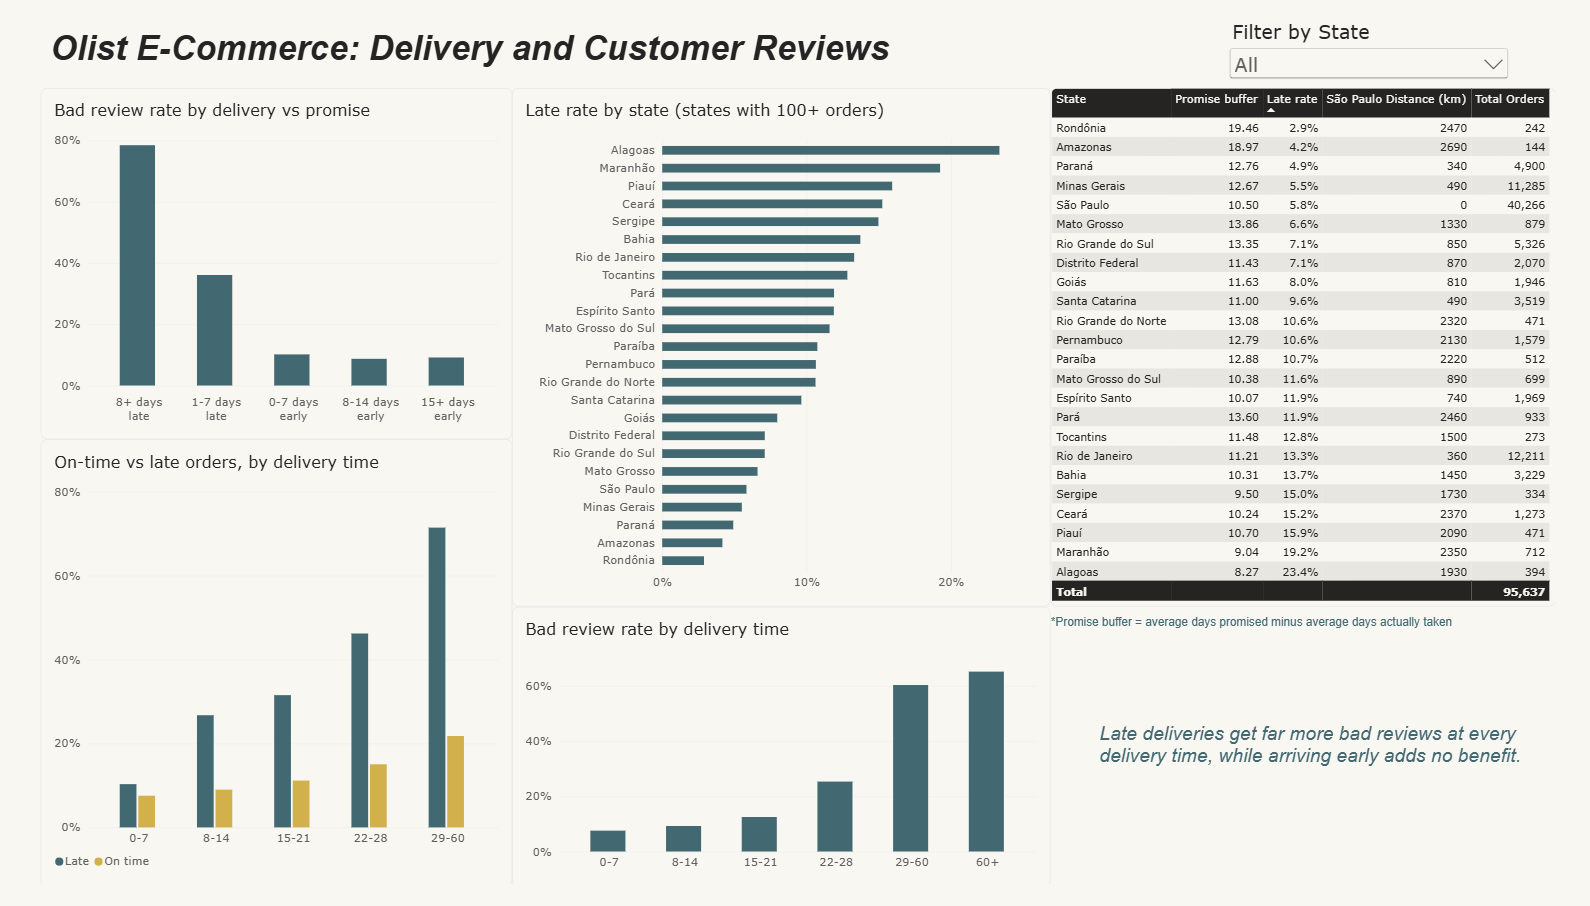

Layout of this report page (visuals, bound fields, positions):
{"tool":"powerbi","page":{"name":"Delivery vs Promise","canvas":[1920,1080],"ordinal":1},"visuals":[{"type":"slicer","fields":{"Values":["States.state_name"]},"box":[1509.3,1.6,356,85.5],"z":0},{"type":"textbox","box":[35.8,12.4,1064.8,65.3],"z":1000},{"type":"columnChart","title":"Bad review rate by delivery vs promise","fields":{"Category":["Orders.buffer_group"],"Y":["Funnel.Bad Review Rate"]},"box":[35.8,87,586,436.8],"z":2000},{"type":"columnChart","title":"Bad review rate by delivery time","fields":{"Category":["Orders.delivery_group"],"Y":["Funnel.Bad Review Rate"]},"box":[621.8,732.1,670,348.2],"z":3000},{"type":"clusteredColumnChart","title":"On-time vs late orders, by delivery time","fields":{"Category":["Orders.delivery_group"],"Series":["Orders.delivery_status"],"Y":["Funnel.Bad Review Rate"]},"box":[35.8,523.8,586,556.5],"z":4000},{"type":"barChart","title":"Late rate by state (states with 100+ orders)","fields":{"Category":["States.state_name"],"Y":["Funnel.Late Rate"]},"box":[621.8,87,670,645.1],"z":5000},{"type":"tableEx","fields":{"Values":["States.state_name","States.promise_buffer","States.late_rate","States.km_from_sao_paulo","Funnel.Total Orders"]},"box":[1291.7,87,628,645.1],"z":6000},{"type":"textbox","box":[1352.3,876.7,539.3,87.1],"z":7000},{"type":"textbox","box":[1291.4,742,515.9,30.1],"z":8000}]}

Visuals, with their boxes in screenshot pixels (x1, y1, x2, y2), scaled from the page's 1920x1080 canvas onto the 1590x906 screenshot:
slicer - States.state_name: <region>1250, 1, 1545, 73</region>
textbox: <region>30, 10, 911, 65</region>
"Bad review rate by delivery vs promise" columnChart: <region>30, 73, 515, 439</region>
"Bad review rate by delivery time" columnChart: <region>515, 614, 1070, 905</region>
"On-time vs late orders, by delivery time" clusteredColumnChart: <region>30, 439, 515, 905</region>
"Late rate by state (states with 100+ orders)" barChart: <region>515, 73, 1070, 614</region>
tableEx - States.state_name x States.promise_buffer: <region>1070, 73, 1589, 614</region>
textbox: <region>1120, 735, 1566, 809</region>
textbox: <region>1069, 622, 1497, 648</region>
